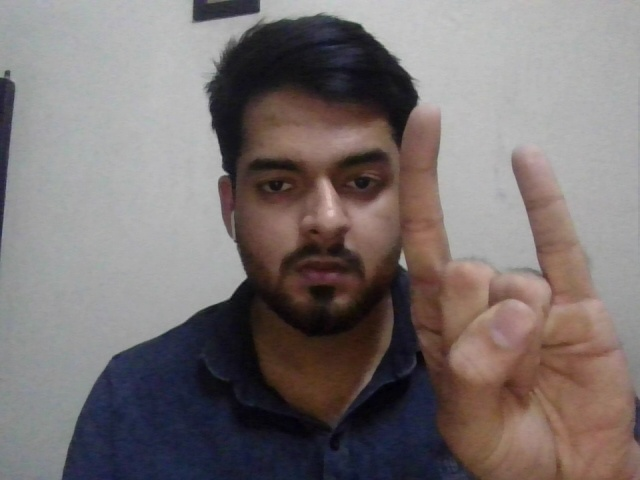iloveyou: (397, 96, 640, 480)
